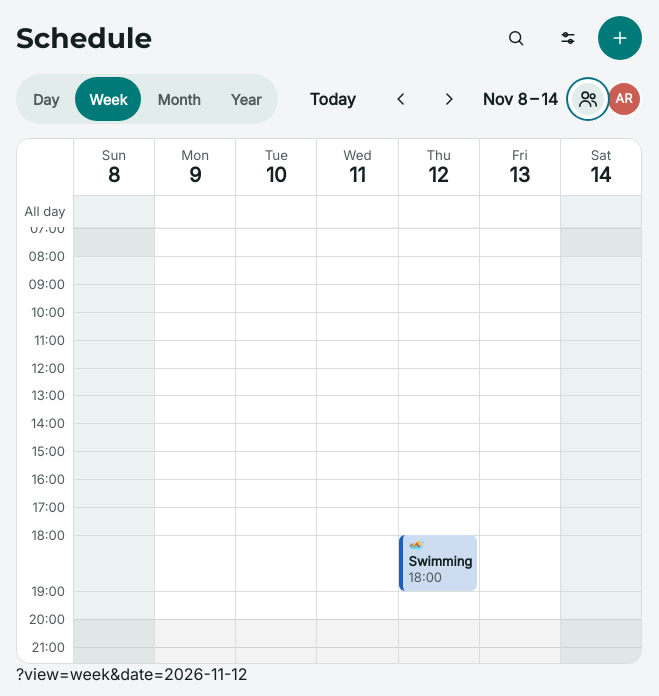
Test: SchedulePage people filter › the gear menu has no people switch for Staff, who always see their faces
(page scrolled)
Check: the text "Swimming" is shown, box [409,553,472,569]
Click the button named "Options": (568, 38) [546,16,590,60]
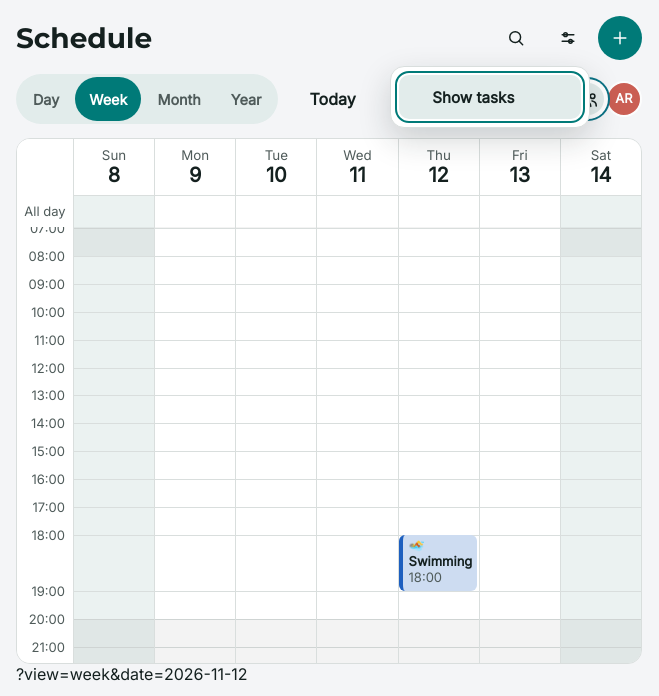
Check: the element named "Show" is shown, box [570,77,642,121]
Check: the menu item "Show tasks" is shown, box [399,75,581,119]
